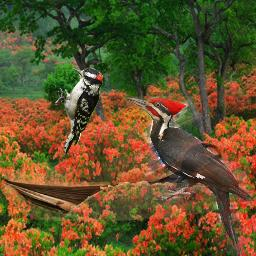Swallow: (4, 141, 226, 221)
Woodpecker: (124, 96, 253, 255), (55, 66, 103, 155)
